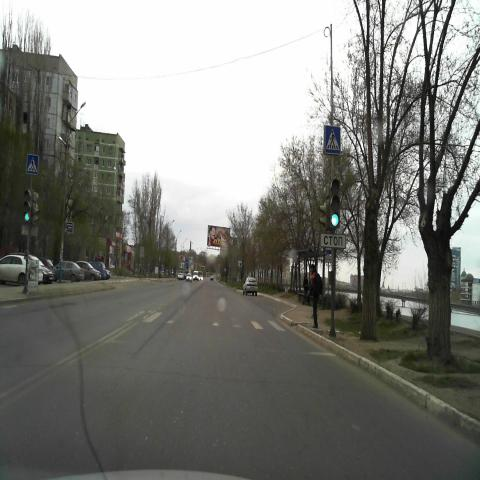6_16: (320, 232, 346, 249)
